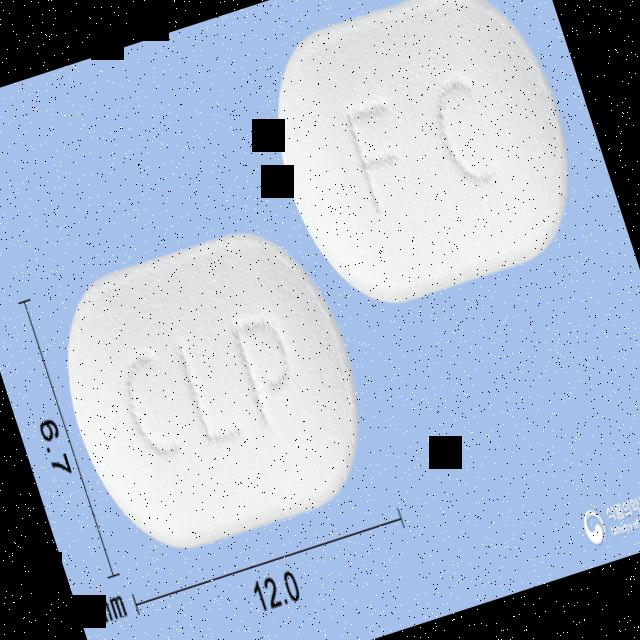Famcivir: (35, 209, 391, 570), (245, 0, 601, 324)
